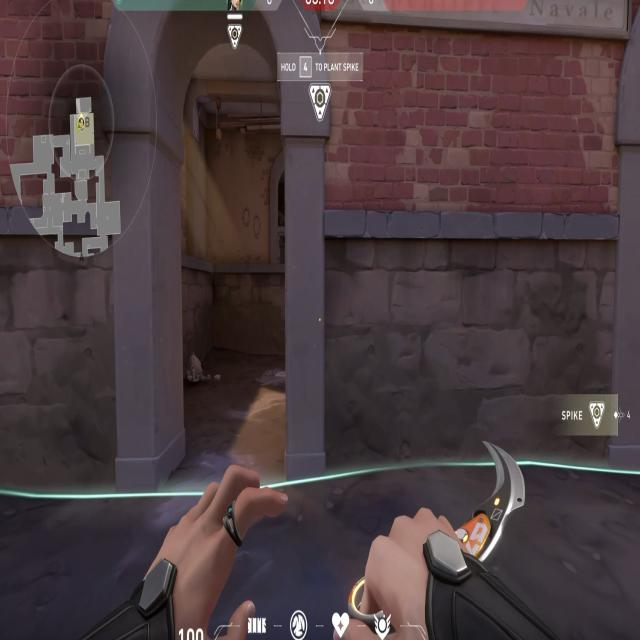B_Boathouse: (102, 0, 340, 499)
